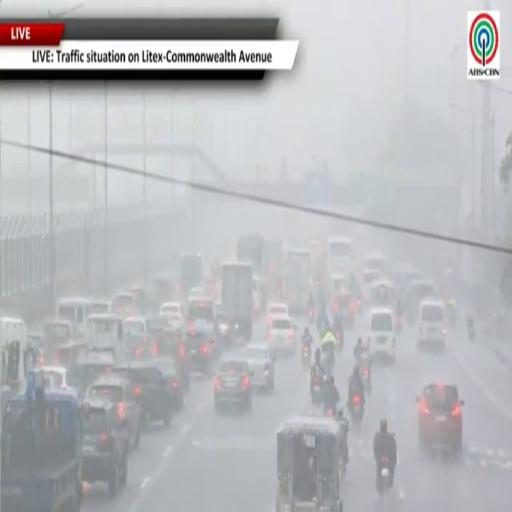car: (81, 398, 129, 497), (85, 375, 142, 447), (112, 360, 173, 427), (417, 383, 464, 455), (157, 328, 190, 392), (67, 351, 114, 395), (215, 359, 252, 411), (155, 358, 185, 410), (185, 325, 215, 374), (368, 308, 395, 362), (245, 344, 275, 392), (418, 299, 446, 349), (267, 315, 296, 357), (123, 316, 152, 358), (41, 366, 74, 392), (146, 315, 167, 355), (111, 292, 139, 317), (160, 302, 184, 328), (267, 302, 288, 325), (159, 302, 182, 316)
motorcycle: (337, 410, 349, 476), (378, 457, 392, 494), (351, 394, 363, 425), (312, 376, 323, 406), (361, 364, 372, 394), (321, 352, 335, 375), (447, 301, 457, 327), (316, 316, 329, 334), (334, 330, 344, 351), (302, 344, 311, 366), (396, 315, 403, 337), (468, 326, 476, 341), (307, 308, 314, 325), (325, 407, 334, 419)
truck: (0, 371, 82, 511), (222, 262, 253, 340), (236, 234, 268, 308), (285, 249, 311, 315), (236, 234, 267, 277), (180, 253, 203, 298)
